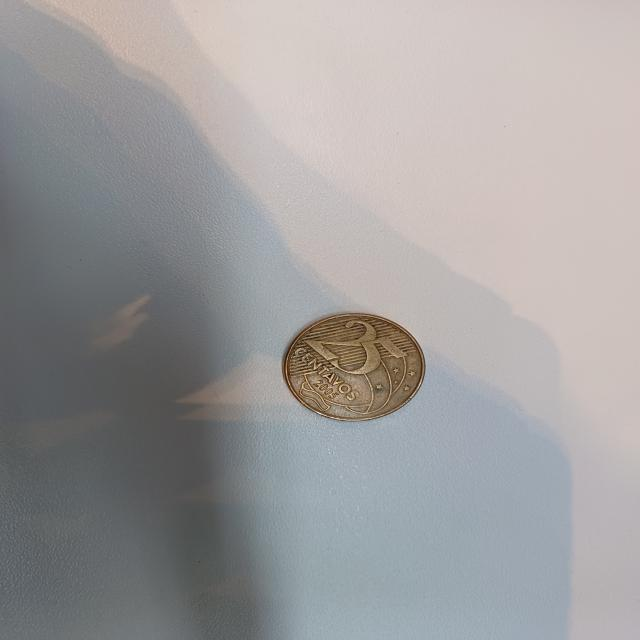25 cents: (276, 308, 430, 426)
